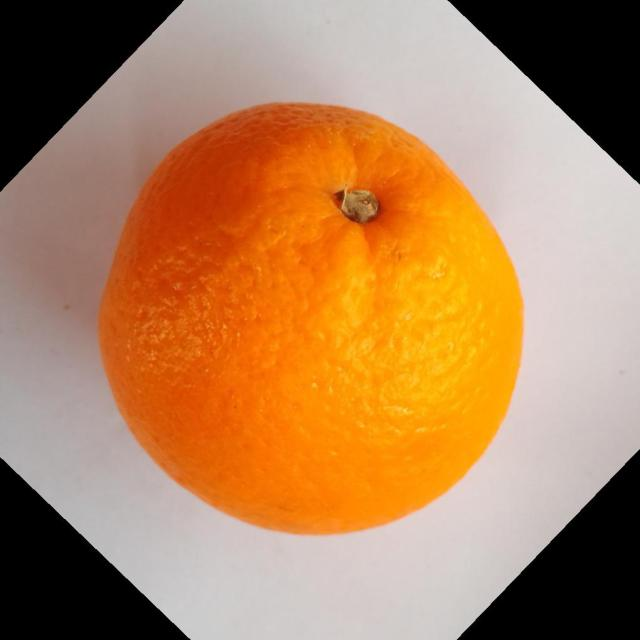fresh orange: (96, 100, 525, 536)
